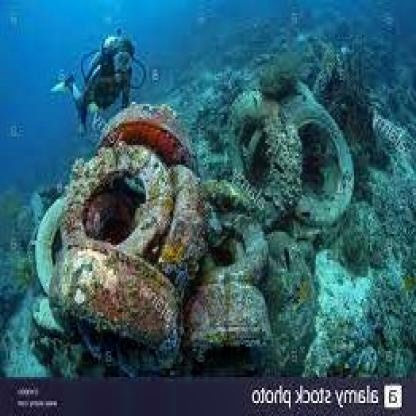tire: (25, 228, 188, 353), (54, 138, 171, 268), (214, 87, 302, 238), (162, 273, 279, 375), (281, 86, 359, 232), (92, 97, 203, 169), (144, 162, 206, 290), (198, 200, 278, 292), (19, 188, 84, 284)
